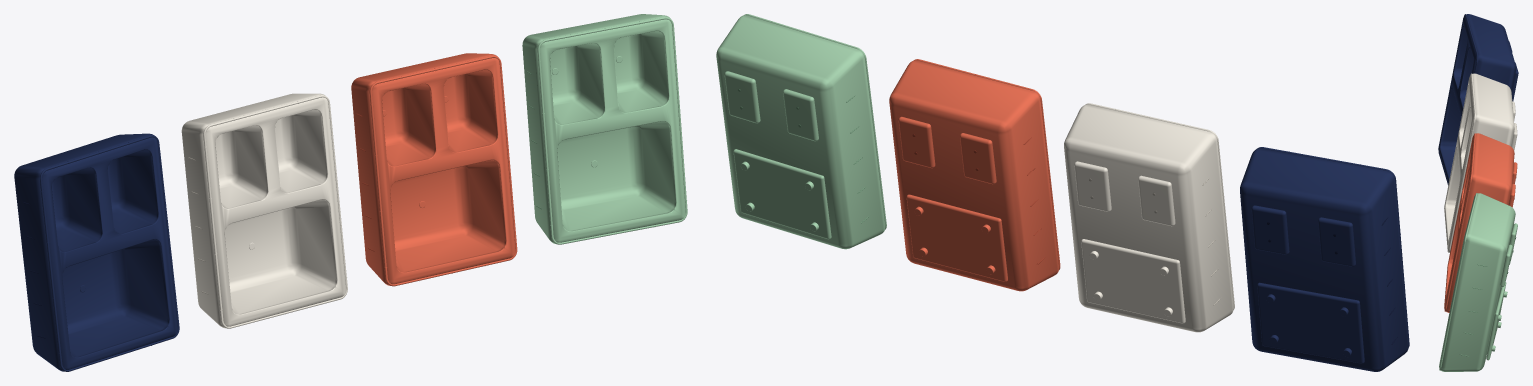
The model's file is lunchbox-tray-four-color-lineup.glb.
The picture shows the model from 3 angles, left to right: view 1: azimuth 30°, elevation 25°; view 2: azimuth 150°, elevation 25°; view 3: azimuth 270°, elevation 25°; orthographic projection. The views are drawn at different scales.
Parts seen in each view (by area): view 1: lunchbox-tray-green-body, lunchbox-tray-coral-body, lunchbox-tray-white-body, lunchbox-tray-navy-body, lunchbox-tray-green-rolled-outer-lip, lunchbox-tray-coral-rolled-outer-lip, lunchbox-tray-white-rolled-outer-lip, lunchbox-tray-navy-rolled-outer-lip; view 2: lunchbox-tray-white-body, lunchbox-tray-navy-body, lunchbox-tray-coral-body, lunchbox-tray-green-body, lunchbox-tray-navy-underside-plate, lunchbox-tray-white-underside-plate, lunchbox-tray-coral-underside-plate, lunchbox-tray-green-underside-plate, lunchbox-tray-navy-underside-pad-1, lunchbox-tray-navy-underside-pad--1, lunchbox-tray-white-underside-pad--1, lunchbox-tray-white-underside-pad-1 (+8 smaller); view 3: lunchbox-tray-green-body, lunchbox-tray-navy-body, lunchbox-tray-white-body, lunchbox-tray-coral-body, lunchbox-tray-white-rolled-outer-lip, lunchbox-tray-green-rolled-outer-lip, lunchbox-tray-coral-rolled-outer-lip, lunchbox-tray-green-underside-plate, lunchbox-tray-green-underside-pad-1, lunchbox-tray-navy-rolled-outer-lip, lunchbox-tray-green-underside-pad--1, lunchbox-tray-navy-underside-pad-1 (+3 smaller).
Part boxes in pixels (left/top/right/bottom): lunchbox-tray-green-body: left=522, top=14, right=685, bottom=244; lunchbox-tray-coral-body: left=351, top=53, right=515, bottom=285; lunchbox-tray-white-body: left=181, top=93, right=346, bottom=328; lunchbox-tray-navy-body: left=14, top=133, right=177, bottom=371; lunchbox-tray-green-rolled-outer-lip: left=537, top=17, right=687, bottom=244; lunchbox-tray-coral-rolled-outer-lip: left=369, top=55, right=517, bottom=286; lunchbox-tray-white-rolled-outer-lip: left=203, top=95, right=347, bottom=328; lunchbox-tray-navy-rolled-outer-lip: left=40, top=135, right=179, bottom=371; lunchbox-tray-white-body: left=1064, top=104, right=1233, bottom=332; lunchbox-tray-navy-body: left=1240, top=148, right=1408, bottom=371; lunchbox-tray-coral-body: left=889, top=60, right=1059, bottom=291; lunchbox-tray-green-body: left=716, top=15, right=885, bottom=249; lunchbox-tray-navy-underside-plate: left=1257, top=282, right=1364, bottom=363; lunchbox-tray-white-underside-plate: left=1081, top=239, right=1185, bottom=323; lunchbox-tray-coral-underside-plate: left=906, top=194, right=1007, bottom=281; lunchbox-tray-green-underside-plate: left=733, top=149, right=831, bottom=239; lunchbox-tray-navy-underside-pad-1: left=1251, top=205, right=1289, bottom=254; lunchbox-tray-navy-underside-pad--1: left=1318, top=217, right=1355, bottom=266; lunchbox-tray-white-underside-pad--1: left=1138, top=175, right=1175, bottom=226; lunchbox-tray-white-underside-pad-1: left=1074, top=161, right=1111, bottom=211; lunchbox-tray-green-body: left=1439, top=193, right=1515, bottom=371; lunchbox-tray-navy-body: left=1438, top=14, right=1516, bottom=184; lunchbox-tray-white-body: left=1444, top=73, right=1514, bottom=252; lunchbox-tray-coral-body: left=1444, top=133, right=1514, bottom=312; lunchbox-tray-white-rolled-outer-lip: left=1447, top=73, right=1475, bottom=252; lunchbox-tray-green-rolled-outer-lip: left=1439, top=193, right=1477, bottom=370; lunchbox-tray-coral-rolled-outer-lip: left=1444, top=133, right=1475, bottom=311; lunchbox-tray-green-underside-plate: left=1486, top=282, right=1506, bottom=360; lunchbox-tray-green-underside-pad-1: left=1500, top=244, right=1512, bottom=286; lunchbox-tray-navy-rolled-outer-lip: left=1438, top=14, right=1478, bottom=185; lunchbox-tray-green-underside-pad--1: left=1509, top=223, right=1517, bottom=264; lunchbox-tray-navy-underside-pad-1: left=1511, top=62, right=1518, bottom=101.
Size of the model in its own units: 8.2 by 2.36 by 1.23.
